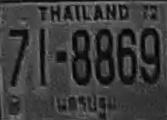1: (39, 29, 47, 87)
6: (116, 27, 136, 84)
7: (8, 28, 29, 85)
8: (94, 28, 114, 84), (71, 28, 91, 84)
9: (140, 27, 160, 83)
NPT: (50, 91, 121, 119)
